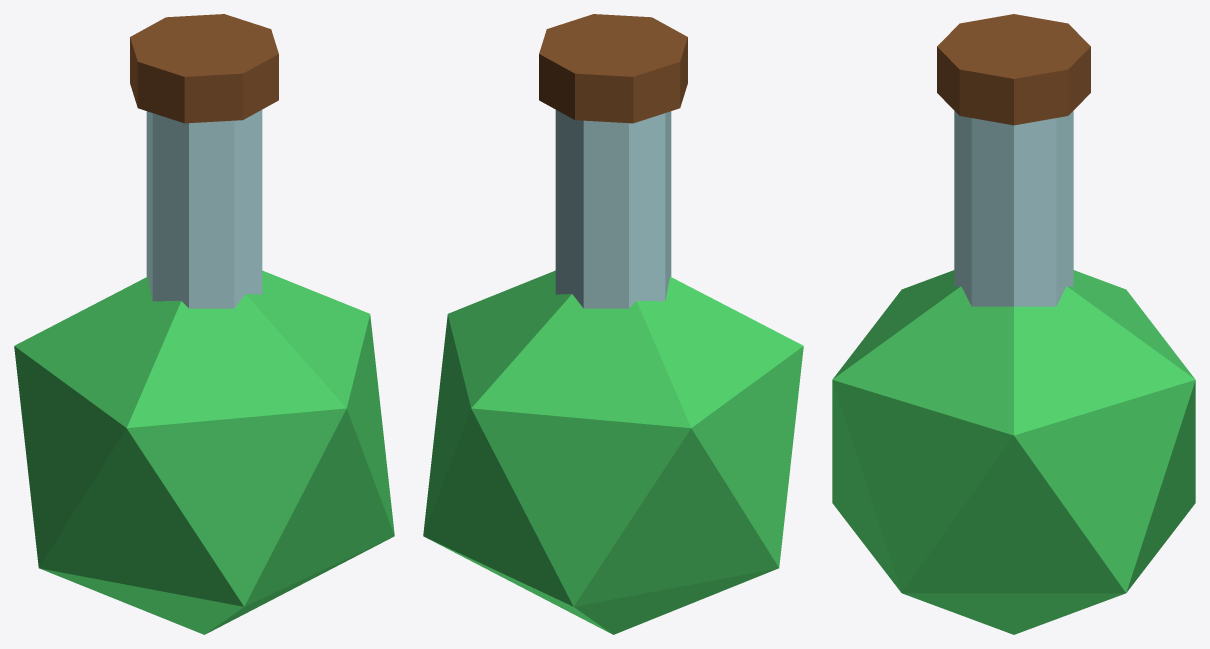
The model's file is flask_round.glb.
The picture shows the model from 3 angles, left to right: view 1: azimuth 30°, elevation 25°; view 2: azimuth 150°, elevation 25°; view 3: azimuth 270°, elevation 25°; orthographic projection.
Visible parts, largest first — view 1: flask_round; view 2: flask_round; view 3: flask_round.
Boxes of the visible parts, bbox=[...] form: flask_round: bbox=[14, 14, 394, 634]; flask_round: bbox=[423, 14, 803, 634]; flask_round: bbox=[832, 14, 1195, 634].
Bounding box in the file's own units: 0.4472 × 0.76 × 0.4253.
